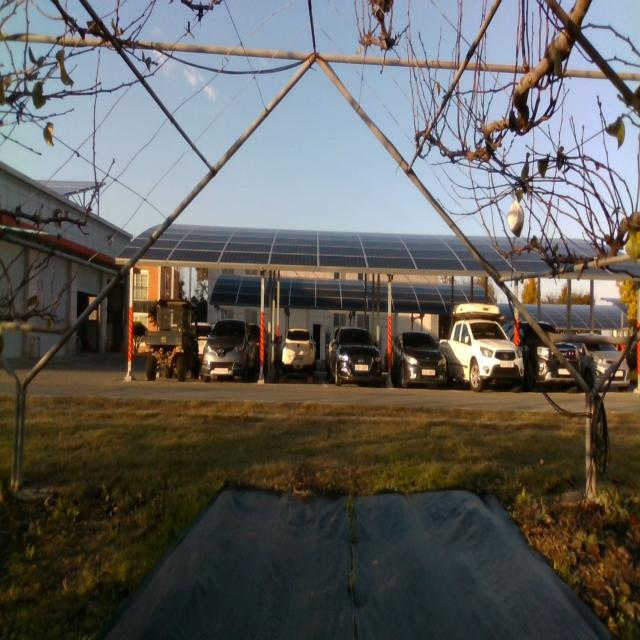pearbags: (507, 199, 524, 237)
